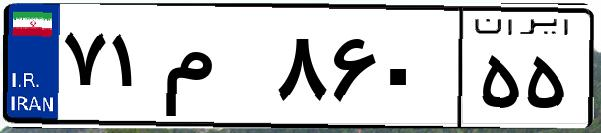0: (385, 28, 445, 110)
1: (110, 28, 158, 98)
5: (475, 38, 525, 113), (525, 38, 570, 115)
6: (330, 28, 385, 110)
7: (57, 26, 110, 100)
8: (270, 28, 330, 110)
م: (158, 20, 270, 120)
